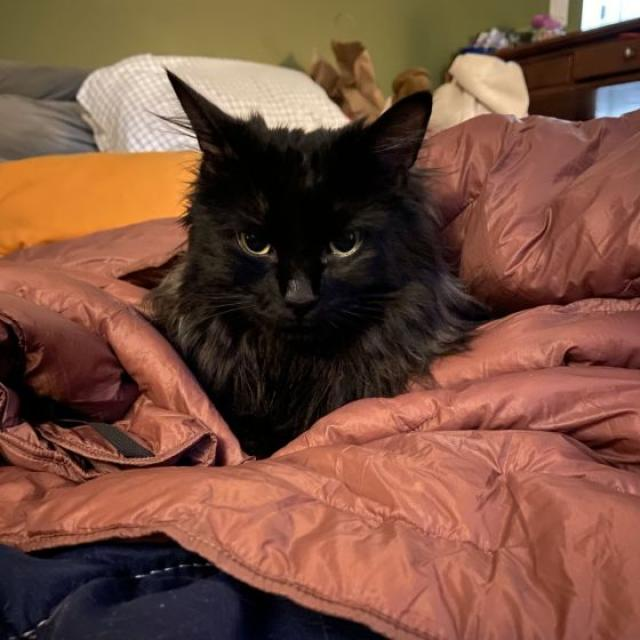domestic_long_hair_cat: (135, 51, 472, 444)
